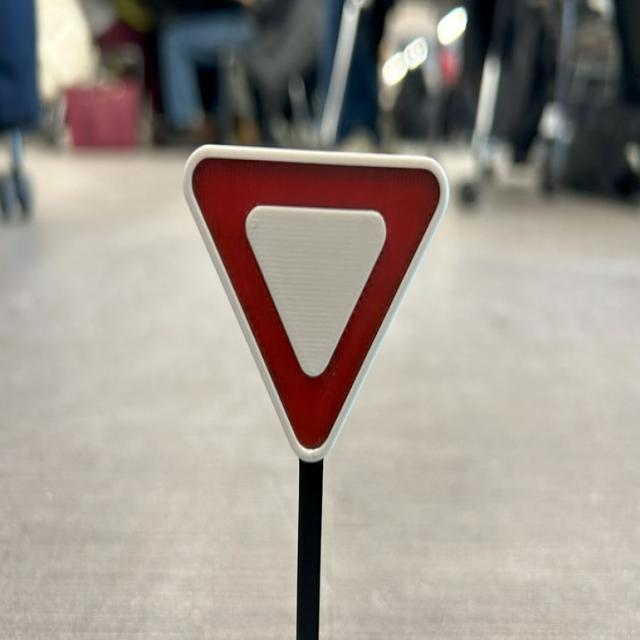sign_yield: (164, 124, 465, 485)
